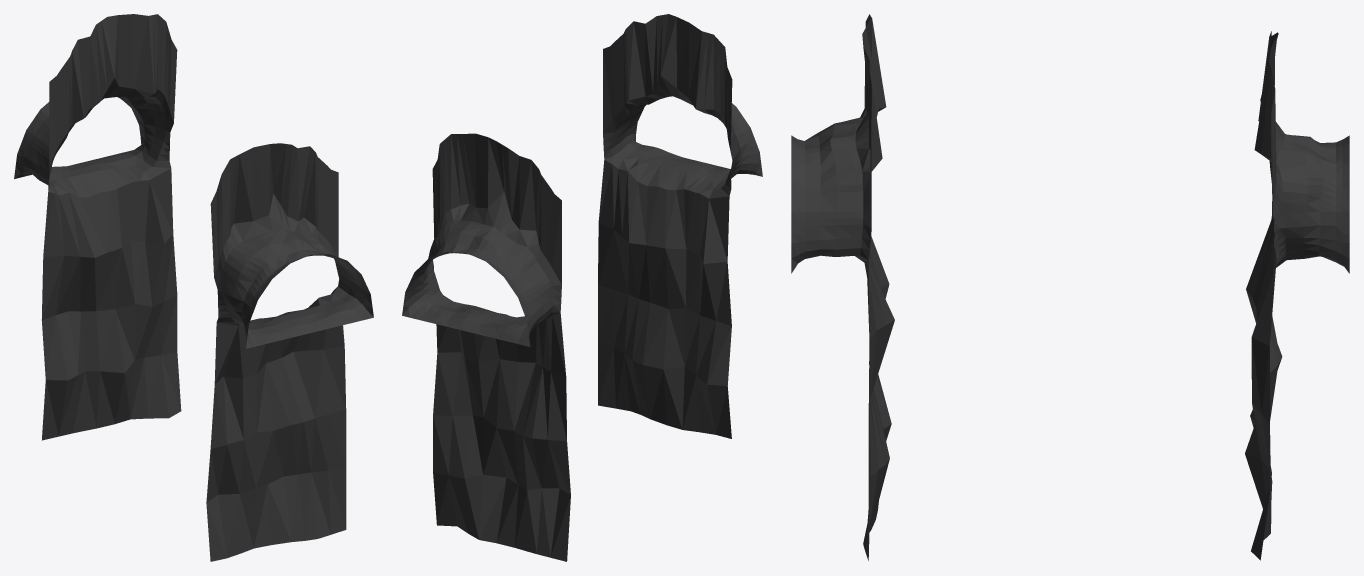
The model's file is Cave_8A.fbx.
The picture shows the model from 3 angles, left to right: view 1: azimuth 30°, elevation 25°; view 2: azimuth 150°, elevation 25°; view 3: azimuth 270°, elevation 25°; orthographic projection. The views are drawn at different scales.
Visible parts, largest first — view 1: polySurface1224; view 2: polySurface1224; view 3: polySurface1224.
Part boxes in pixels (left/top/right/bottom): polySurface1224: left=14, top=14, right=373, bottom=561; polySurface1224: left=402, top=14, right=762, bottom=561; polySurface1224: left=791, top=14, right=1349, bottom=560.
Bounding box in the file's own units: 8.82 × 24.99 × 25.9.
